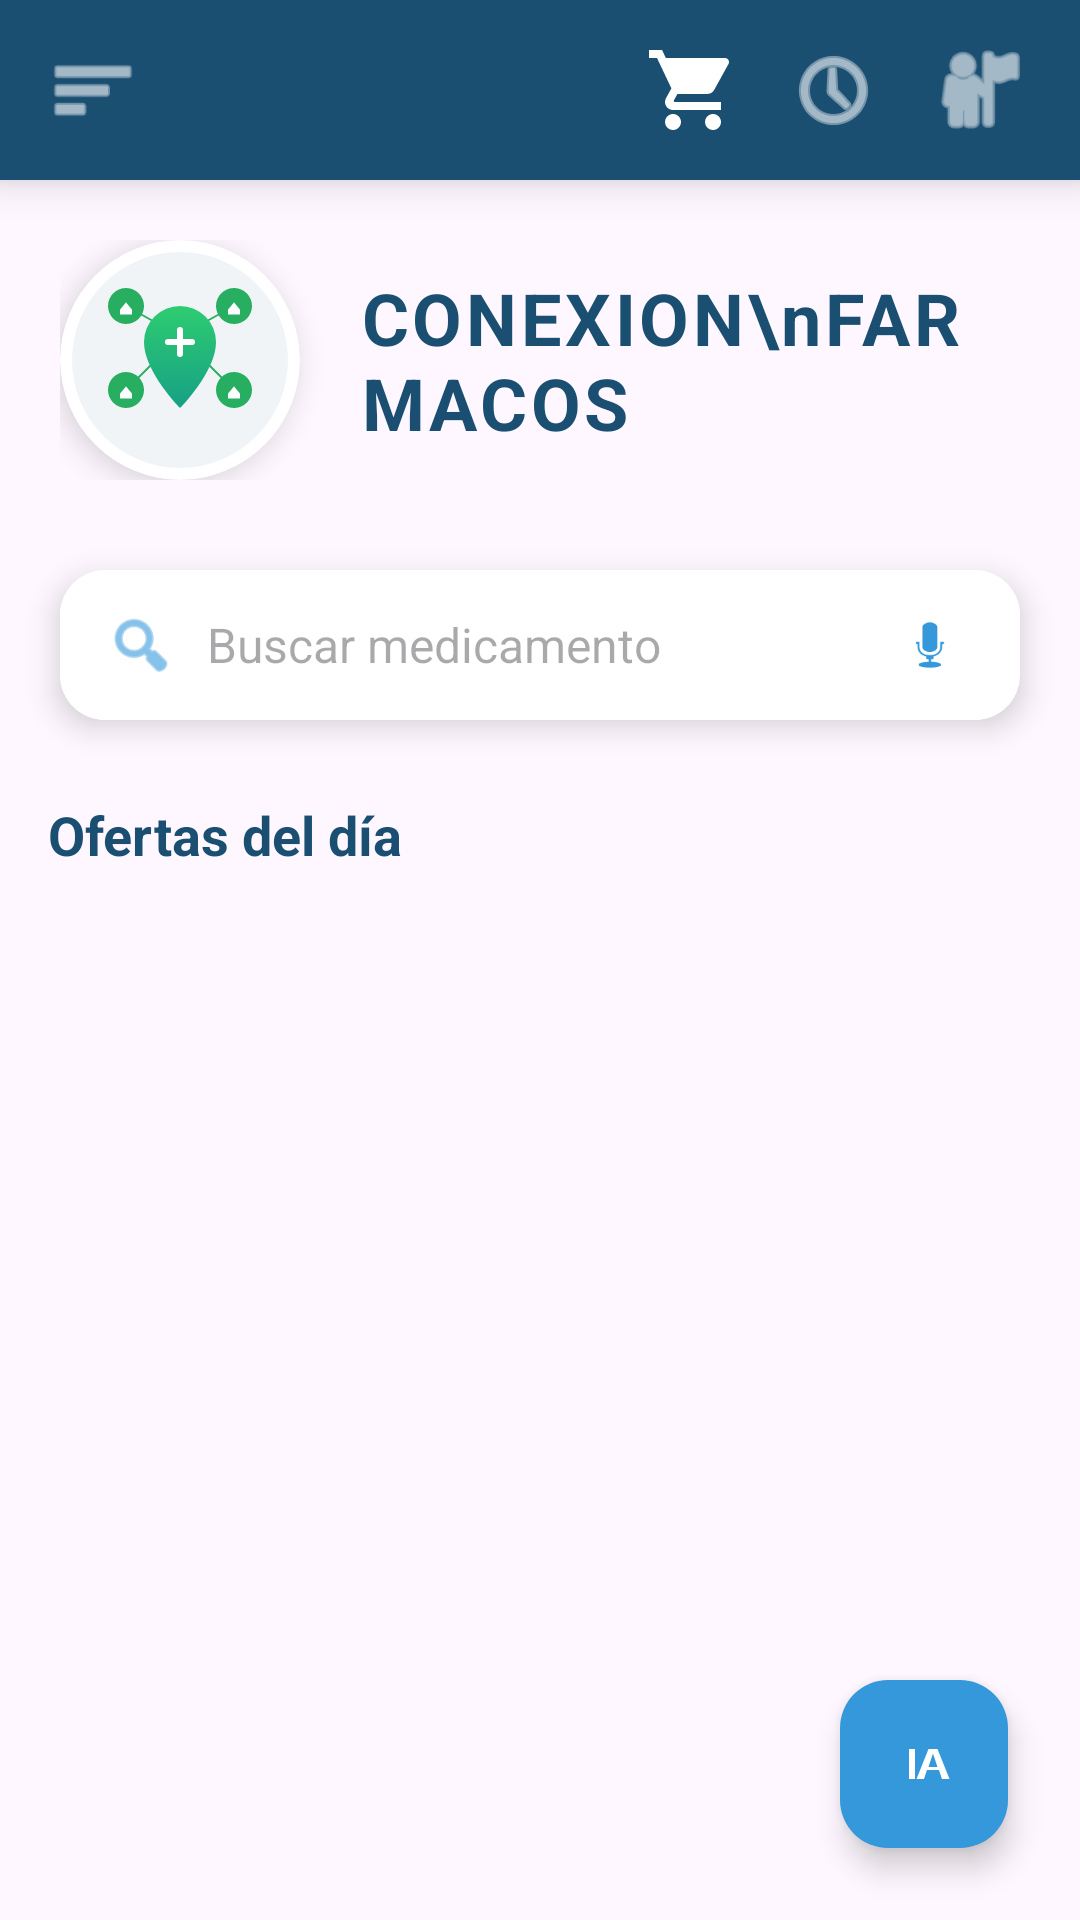

Locate icon controls on the screen. Image size 1080×1920, boxes as BBox(x1, y1, x2, y2).
Búsqueda por voz: BBox(915, 622, 944, 668)
Carrito: BBox(649, 50, 729, 130)
Historial: BBox(799, 56, 868, 125)
Menú: BBox(54, 65, 132, 116)
Perfil: BBox(941, 50, 1020, 129)
